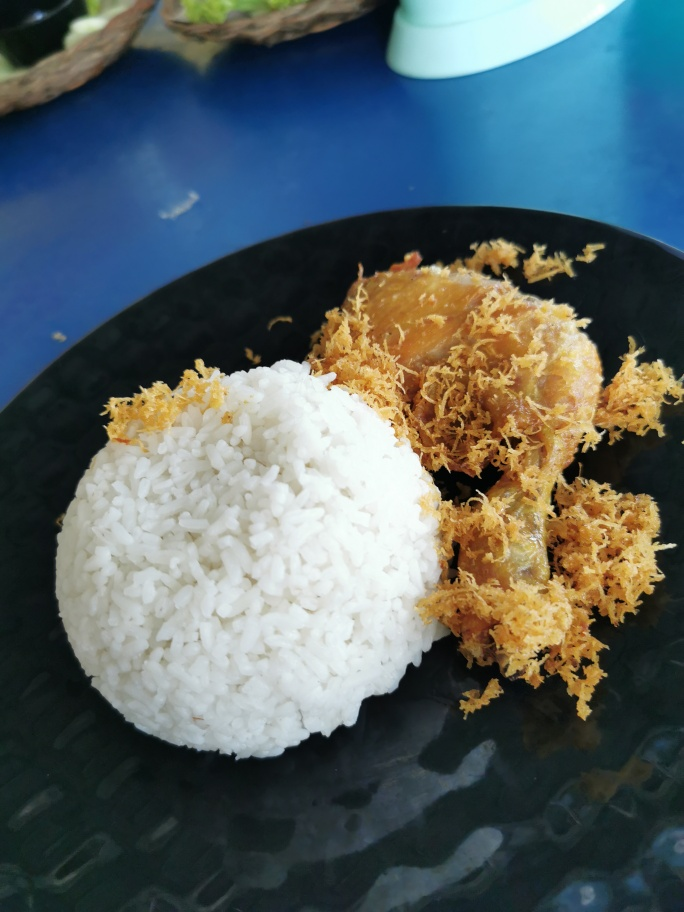ayam goreng: (330, 242, 650, 708)
nasi putih: (41, 347, 443, 798)
